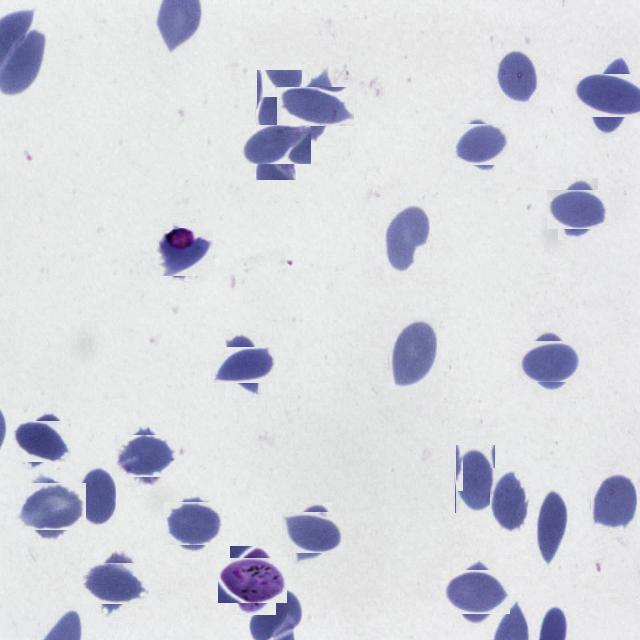gametocyte: (224, 552, 282, 609)
red blood cell: (581, 63, 640, 127), (21, 476, 80, 536), (388, 317, 437, 389), (286, 78, 345, 136), (384, 203, 430, 273), (448, 564, 503, 621), (256, 69, 302, 136), (88, 556, 144, 611), (534, 486, 569, 574), (248, 117, 304, 172), (524, 335, 578, 388), (590, 473, 637, 532), (456, 444, 496, 513), (157, 226, 210, 278), (119, 430, 171, 482), (552, 183, 604, 234), (287, 507, 338, 559), (489, 467, 528, 534), (496, 49, 540, 108), (168, 498, 218, 549), (456, 120, 506, 170), (17, 416, 67, 466), (218, 340, 268, 390), (76, 464, 116, 526)
